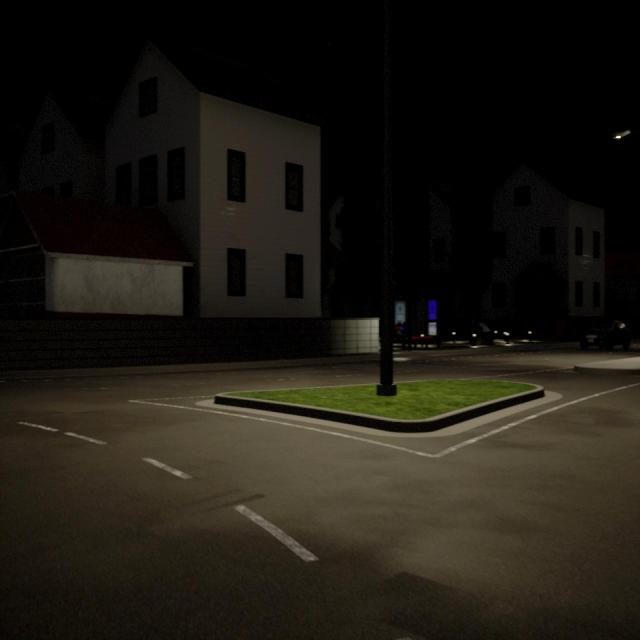Vehicle: (584, 321, 628, 350)
